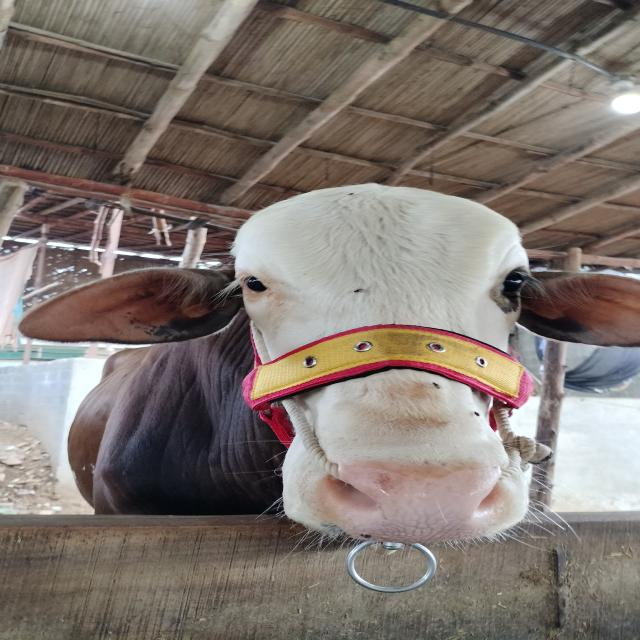muzzles: (306, 456, 538, 547)
